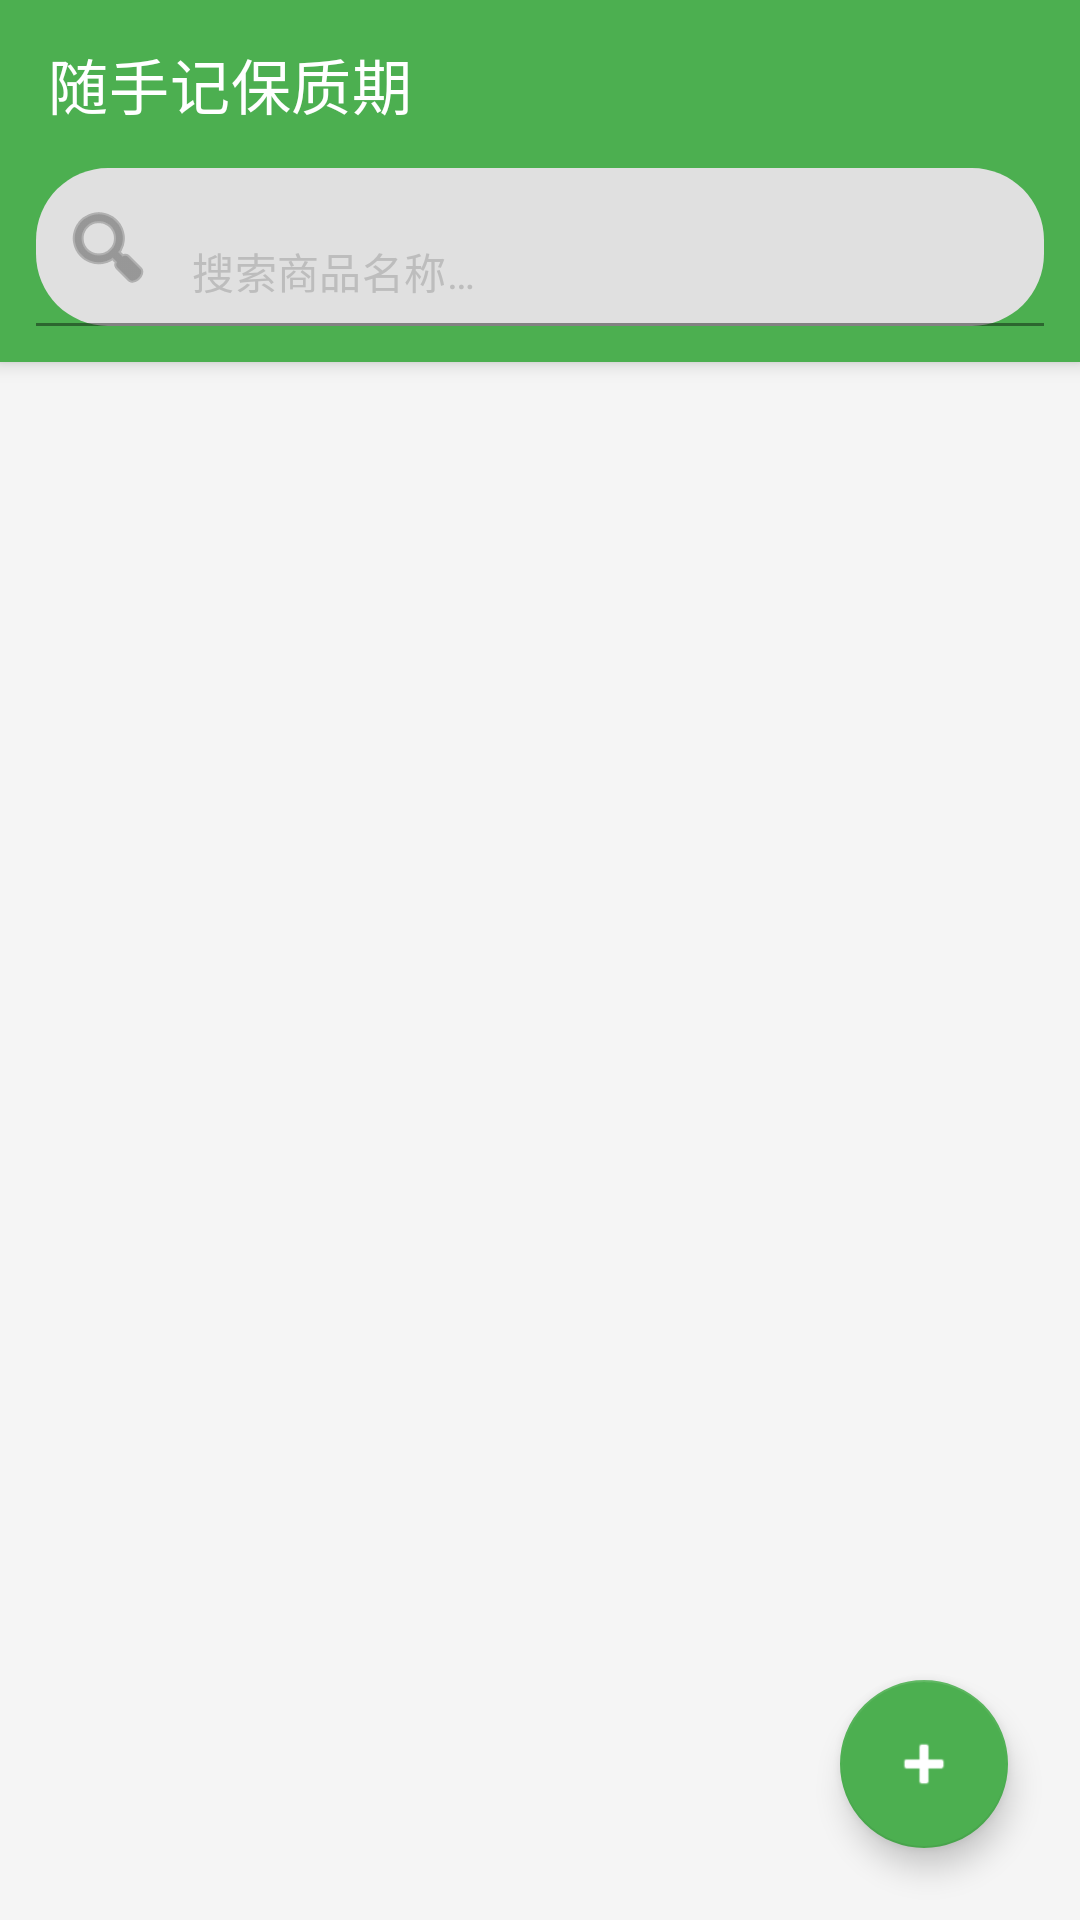

Where icons sit on this 1080w x 1920h app screen, as (x1, y1, x2, y2):
添加商品: (840, 1680, 1008, 1848)
